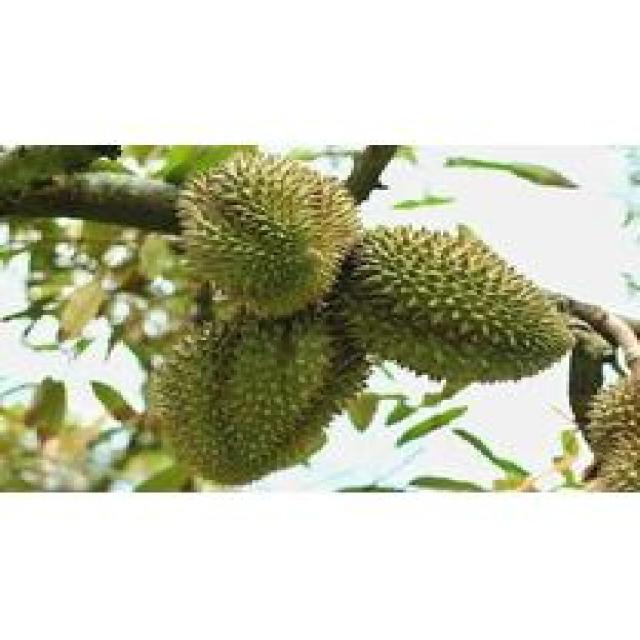fruit: (138, 132, 388, 500), (329, 202, 585, 410)
